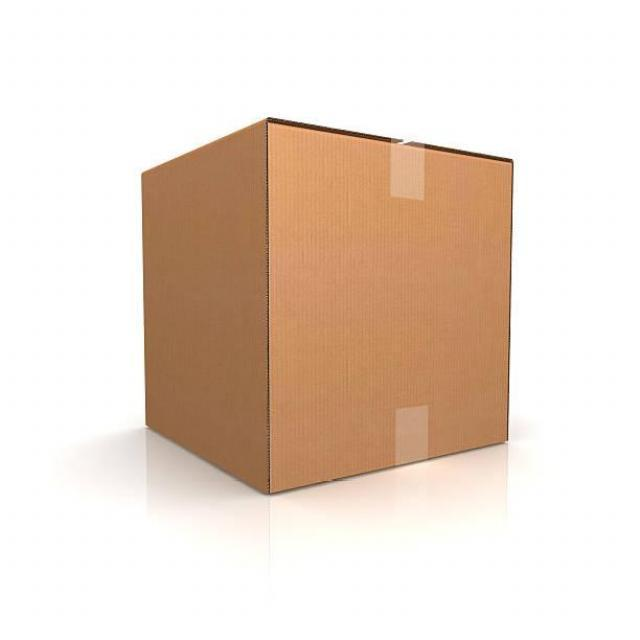box: (130, 104, 534, 500)
